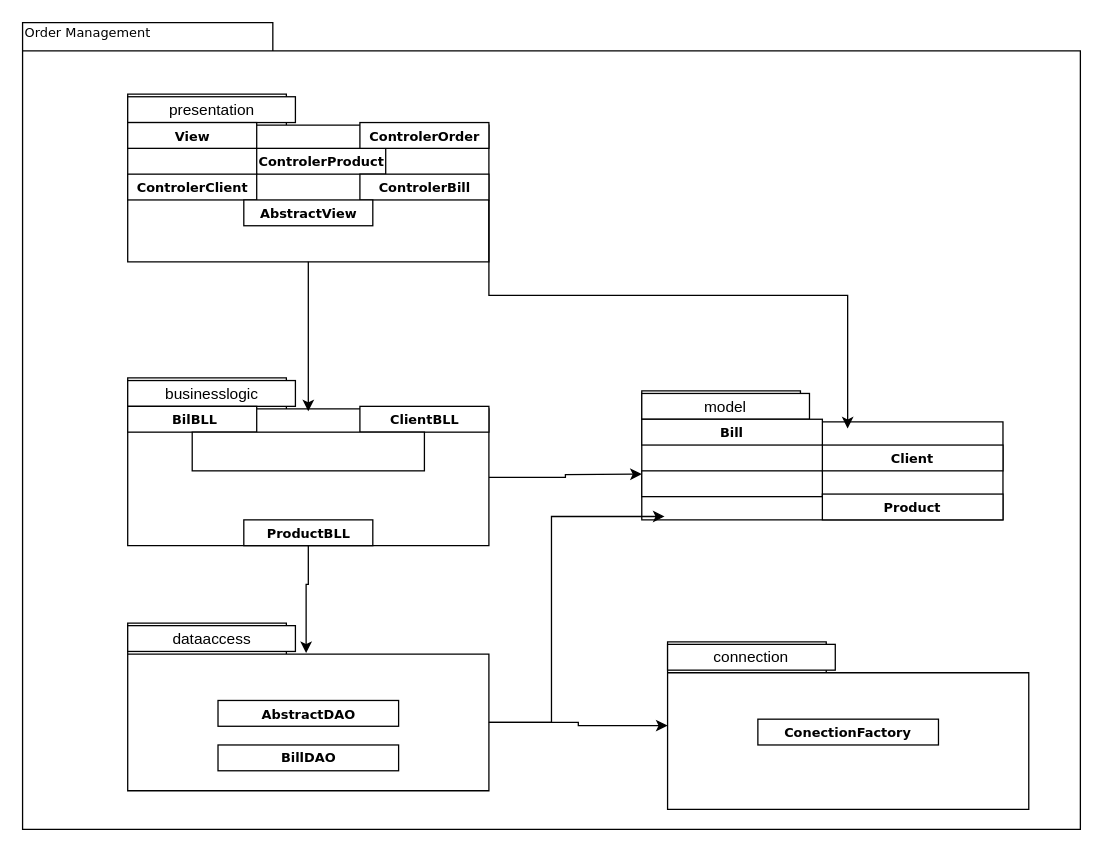
The diagram is 1103 pixels wide and 853 high, and some of its shapes have lost their labels. The shapes that lost their labels are listed below. From the top down, each one's box as (x1, y1, x2, y2) in pixels, then its label:
(191, 431, 424, 471): OrderBLL
(640, 470, 822, 497): Order
